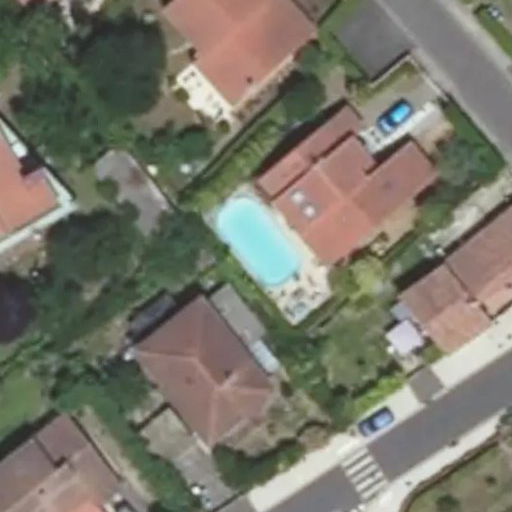pool: (210, 218, 302, 266)
